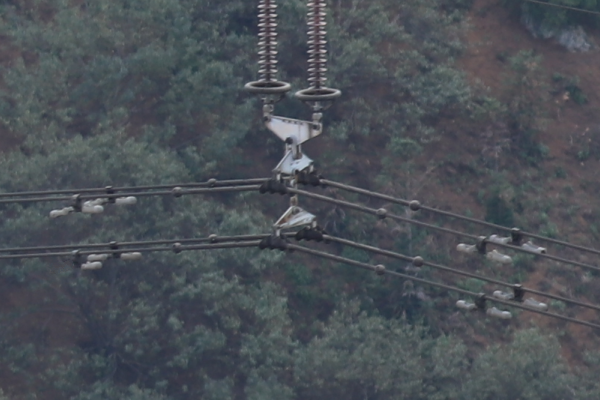damper: (454, 232, 513, 267), (452, 289, 512, 323), (488, 225, 547, 254), (490, 283, 549, 311), (45, 193, 105, 219), (82, 184, 139, 206), (85, 240, 142, 262)
damper_defect: (66, 251, 102, 271)
